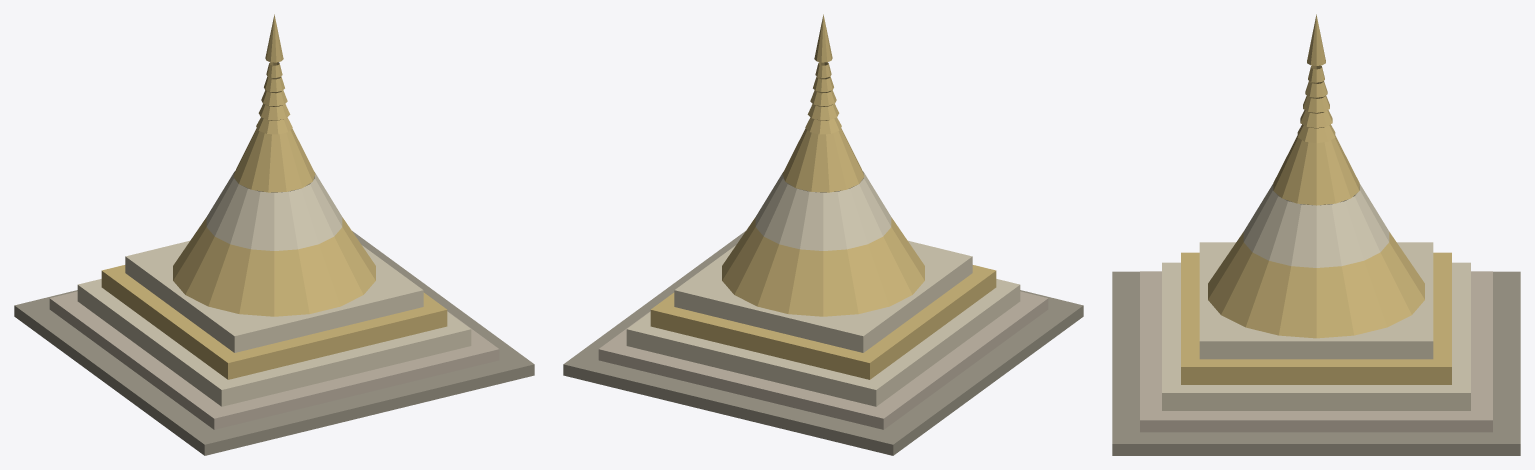
Rendered from bupaya.glb.
The picture shows the model from 3 angles, left to right: view 1: azimuth 30°, elevation 25°; view 2: azimuth 150°, elevation 25°; view 3: azimuth 270°, elevation 25°; orthographic projection. The views are drawn at different scales.
Size of the model in its own units: 3.7 by 3.56 by 3.7.
